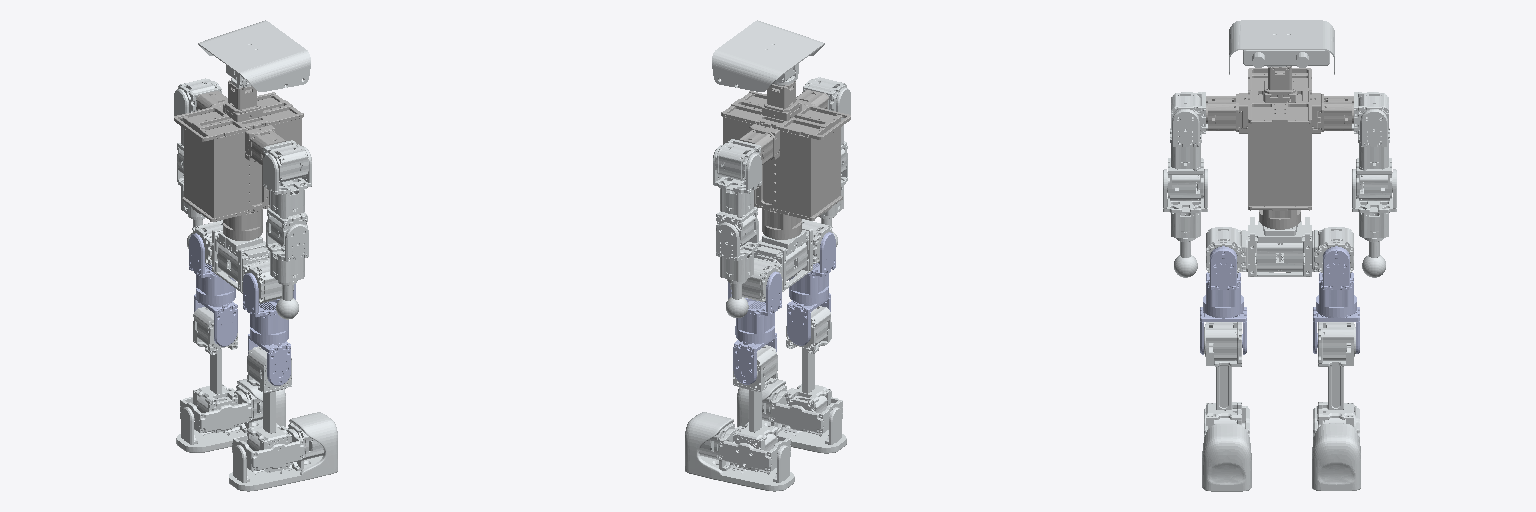
--- Render facts (derived) ---
Views: 3 orthographic renders of the robot side by side, from view 1: azimuth 30°, elevation 25°; view 2: azimuth 150°, elevation 25°; view 3: azimuth 270°, elevation 25°.
Robot: pi_plus_25dof_250820_ori — 26 links, 25 joints (21 revolute, 4 fixed); root link base_link; default pose: all joints at 0.
Links seen in each view (by area): view 1: base_link, head_pitch_link, r_ankle_roll_link, l_ankle_roll_link, r_calf_link, l_calf_link, waist_link, r_hip_roll_link, r_elbow_link, r_shoulder_roll_link, l_hip_roll_link, l_ankle_pitch_link (+8 smaller); view 2: base_link, head_pitch_link, l_ankle_roll_link, r_ankle_roll_link, r_calf_link, l_calf_link, waist_link, l_hip_roll_link, l_elbow_link, l_shoulder_roll_link, r_hip_roll_link, l_ankle_pitch_link (+8 smaller); view 3: base_link, head_pitch_link, waist_link, r_ankle_roll_link, l_ankle_roll_link, r_calf_link, l_calf_link, r_hip_roll_link, l_hip_roll_link, l_shoulder_roll_link, r_shoulder_roll_link, l_elbow_link (+11 smaller).
Boxes of the visible links, x1,y1,x2,y2 form: base_link: (174,80,303,240); head_pitch_link: (198,20,310,91); r_ankle_roll_link: (229,412,337,491); l_ankle_roll_link: (176,379,285,452); r_calf_link: (247,346,291,472); l_calf_link: (193,307,237,432); waist_link: (212,227,269,293); r_hip_roll_link: (243,273,295,346); r_elbow_link: (266,222,308,282); r_shoulder_roll_link: (263,146,311,218); l_hip_roll_link: (189,233,235,305); l_ankle_pitch_link: (180,388,251,432); base_link: (721,80,850,239); head_pitch_link: (712,20,824,91); l_ankle_roll_link: (685,412,794,491); r_ankle_roll_link: (737,379,846,453); r_calf_link: (786,306,831,431); l_calf_link: (733,345,777,471); waist_link: (754,226,812,291); l_hip_roll_link: (728,271,781,344); l_elbow_link: (716,221,758,281); l_shoulder_roll_link: (713,145,761,217); r_hip_roll_link: (789,232,835,304); l_ankle_pitch_link: (719,426,790,471); base_link: (1206,66,1353,229); head_pitch_link: (1229,20,1334,74); waist_link: (1246,217,1313,276); r_ankle_roll_link: (1202,424,1251,491); l_ankle_roll_link: (1312,423,1360,490); r_calf_link: (1204,322,1241,428); l_calf_link: (1318,322,1355,428); r_hip_roll_link: (1203,246,1243,318); l_hip_roll_link: (1316,246,1356,318); l_shoulder_roll_link: (1358,92,1389,168); r_shoulder_roll_link: (1170,92,1201,168); l_elbow_link: (1352,169,1396,237).
Bounding box of the posed robot: 0.2078 × 0.3372 × 0.6915 m (x, y, z).
26 mesh visuals loaded from 26 distinct referenced files (26 binary STL).

URDF robot description (pi_plus_25dof_250820_ori):
<?xml version="1.0" encoding="utf-8"?>
<!-- This URDF was automatically created by SolidWorks to URDF Exporter! Originally created by Stephen Brawner ([email redacted]) 
     Commit Version: 1.6.0-4-g7f85cfe  Build Version: 1.6.7995.38578
     For more information, please see http://wiki.ros.org/sw_urdf_exporter -->
<robot
  name="pi_plus_25dof_250820_ori">
      <mujoco>                                                                                                                                          
        <compiler meshdir="../meshes/" balanceinertia="true" discardvisual="false" />                                                                 
      </mujoco>
  <link
    name="base_link">
    <inertial>
      <origin
        xyz="0.0007758 0.000106 0.11588"
        rpy="0 0 0" />
      <mass
        value="2.2576" />
      <inertia
        ixx="0.014803"
        ixy="1.5E-05"
        ixz="0.0001222"
        iyy="0.0123813"
        iyz="1.19E-05"
        izz="0.0067596" />
    </inertial>
    <visual>
      <origin
        xyz="0 0 0"
        rpy="0 0 0" />
      <geometry>
        <mesh
          filename="../meshes/base_link.STL" />
      </geometry>
      <material
        name="">
        <color
          rgba="0.75294 0.75294 0.75294 1" />
      </material>
    </visual>
    <collision>
      <origin
        xyz="0 0 0.13"
        rpy="0 0 0" />
      <geometry>
        <box size="0.165 0.10 0.15" />
        <!-- <mesh
          filename="../meshes/base_link.STL" /> -->
      </geometry>
    </collision>
  </link>
  <link
    name="waist_link">
    <inertial>
      <origin
        xyz="-0.0002057 0 -0.0388001"
        rpy="0 0 0" />
      <mass
        value="0.8863498" />
      <inertia
        ixx="0.0010563"
        ixy="-3.9E-06"
        ixz="6.1E-06"
        iyy="0.0004077"
        iyz="0"
        izz="0.0009238" />
    </inertial>
    <visual>
      <origin
        xyz="0 0 0"
        rpy="0 0 0" />
      <geometry>
        <mesh
          filename="../meshes/waist_link.STL" />
      </geometry>
      <material
        name="">
        <color
          rgba="0.89804 0.91765 0.92941 1" />
      </material>
    </visual>
    <collision>
      <origin
        xyz="0 0 0"
        rpy="0 0 0" />
      <geometry>
        <mesh
          filename="../meshes/waist_link.STL" />
      </geometry>
    </collision>
  </link>
  <joint
    name="waist_joint"
    type="revolute">
    <origin
      xyz="0 0 -0.0208"
      rpy="0 0 0" />
    <parent
      link="base_link" />
    <child
      link="waist_link" />
    <axis
      xyz="0 0 1" />
    <limit
      lower="-1.57"
      upper="1.57"
      effort="14.4"
      velocity="5.45" />
  </joint>
  <link
    name="l_hip_pitch_link">
    <inertial>
      <origin
        xyz="0.0012172 0.0292722 0.0002663"
        rpy="0 0 0" />
      <mass
        value="0.3993883" />
      <inertia
        ixx="0.0001042"
        ixy="-1.6E-06"
        ixz="1E-07"
        iyy="9.81E-05"
        iyz="-9E-07"
        izz="0.0001247" />
    </inertial>
    <visual>
      <origin
        xyz="0 0 0"
        rpy="0 0 0" />
      <geometry>
        <mesh
          filename="../meshes/l_hip_pitch_link.STL" />
      </geometry>
      <material
        name="">
        <color
          rgba="0.89804 0.91765 0.92941 1" />
      </material>
    </visual>
    <collision>
      <origin
        xyz="0 0 0"
        rpy="0 0 0" />
      <geometry>
        <mesh
          filename="../meshes/l_hip_pitch_link.STL" />
      </geometry>
    </collision>
  </link>
  <joint
    name="l_hip_pitch_joint"
    type="revolute">
    <origin
      xyz="0 0.0489 -0.0435"
      rpy="0 0 0" />
    <parent
      link="waist_link" />
    <child
      link="l_hip_pitch_link" />
    <axis
      xyz="0 1 0" />
    <limit
      lower="-3.13"
      upper="2.95"
      effort="14.4"
      velocity="5.45" />
  </joint>
  <link
    name="l_hip_roll_link">
    <inertial>
      <origin
        xyz="0.0007793 0.0001363 -0.06136"
        rpy="0 0 0" />
      <mass
        value="0.4863" />
      <inertia
        ixx="0.0004765"
        ixy="-4E-07"
        ixz="-2.1E-05"
        iyy="0.0005704"
        iyz="8E-07"
        izz="0.0002242" />
    </inertial>
    <visual>
      <origin
        xyz="0 0 0"
        rpy="0 0 0" />
      <geometry>
        <mesh
          filename="../meshes/l_hip_roll_link.STL" />
      </geometry>
      <material
        name="">
        <color
          rgba="0.79216 0.81961 0.93333 1" />
      </material>
    </visual>
    <collision>
      <origin
        xyz="0 0 0"
        rpy="0 0 0" />
      <geometry>
        <mesh
          filename="../meshes/l_hip_roll_link.STL" />
      </geometry>
    </collision>
  </link>
  <joint
    name="l_hip_roll_joint"
    type="revolute">
    <origin
      xyz="0 0.0326 0"
      rpy="0 0 0" />
    <parent
      link="l_hip_pitch_link" />
    <child
      link="l_hip_roll_link" />
    <axis
      xyz="1 0 0" />
    <limit
      lower="-0.31"
      upper="3.14"
      effort="14.4"
      velocity="5.45" />
  </joint>
  <link
    name="l_thigh_link">
    <inertial>
      <origin
        xyz="0 -0.0014288 -0.017897"
        rpy="0 0 0" />
      <mass
        value="0.10996" />
      <inertia
        ixx="0.0001209"
        ixy="0"
        ixz="0"
        iyy="5.58E-05"
        iyz="-2.7E-06"
        izz="9.21E-05" />
    </inertial>
    <visual>
      <origin
        xyz="0 0 0"
        rpy="0 0 0" />
      <geometry>
        <mesh
          filename="../meshes/l_thigh_link.STL" />
      </geometry>
      <material
        name="">
        <color
          rgba="0.79216 0.81961 0.93333 1" />
      </material>
    </visual>
    <collision>
      <origin
        xyz="0 0 0"
        rpy="0 0 0" />
      <geometry>
        <mesh
          filename="../meshes/l_thigh_link.STL" />
      </geometry>
    </collision>
  </link>
  <joint
    name="l_thigh_joint"
    type="revolute">
    <origin
      xyz="-0.00035 0 -0.10249"
      rpy="0 0 0" />
    <parent
      link="l_hip_roll_link" />
    <child
      link="l_thigh_link" />
    <axis
      xyz="0 0 1" />
    <limit
      lower="-2.88"
      upper="2.88"
      effort="14.4"
      velocity="5.45" />
  </joint>
  <link
    name="l_calf_link">
    <inertial>
      <origin
        xyz="-1.36E-05 0.0027531 -0.07"
        rpy="0 0 0" />
      <mass
        value="0.8031826" />
      <inertia
        ixx="0.003732"
        ixy="0"
        ixz="-1.49E-05"
        iyy="0.0037196"
        iyz="0"
        izz="0.0001841" />
    </inertial>
    <visual>
      <origin
        xyz="0 0 0"
        rpy="0 0 0" />
      <geometry>
        <mesh
          filename="../meshes/l_calf_link.STL" />
      </geometry>
      <material
        name="">
        <color
          rgba="0.89804 0.91765 0.92941 1" />
      </material>
    </visual>
    <collision>
      <origin
        xyz="0 0 0"
        rpy="0 0 0" />
      <geometry>
        <mesh
          filename="../meshes/l_calf_link.STL" />
      </geometry>
    </collision>
  </link>
  <joint
    name="l_calf_joint"
    type="revolute">
    <origin
      xyz="0 0 -0.039912"
      rpy="0 0 0" />
    <parent
      link="l_thigh_link" />
    <child
      link="l_calf_link" />
    <axis
      xyz="0 1 0" />
    <limit
      lower="-2.49"
      upper="2.49"
      effort="14.4"
      velocity="5.45" />
  </joint>
  <link
    name="l_ankle_pitch_link">
    <inertial>
      <origin
        xyz="0.0069349 -0.0009173 1.5304E-05"
        rpy="0 0 0" />
      <mass
        value="0.15648" />
      <inertia
        ixx="0.0001151"
        ixy="-1E-06"
        ixz="-1E-07"
        iyy="0.0001831"
        iyz="0"
        izz="0.0002664" />
    </inertial>
    <visual>
      <origin
        xyz="0 0 0"
        rpy="0 0 0" />
      <geometry>
        <mesh
          filename="../meshes/l_ankle_pitch_link.STL" />
      </geometry>
      <material
        name="">
        <color
          rgba="0.89804 0.91765 0.92941 1" />
      </material>
    </visual>
    <collision>
      <origin
        xyz="0 0 0"
        rpy="0 0 0" />
      <geometry>
        <mesh
          filename="../meshes/l_ankle_pitch_link.STL" />
      </geometry>
    </collision>
  </link>
  <joint
    name="l_ankle_pitch_joint"
    type="revolute">
    <origin
      xyz="0 0 -0.14"
      rpy="0 0 0" />
    <parent
      link="l_calf_link" />
    <child
      link="l_ankle_pitch_link" />
    <axis
      xyz="0 1 0" />
    <limit
      lower="-0.97"
      upper="0.92"
      effort="14.4"
      velocity="5.45" />
  </joint>
  <link
    name="l_ankle_roll_link">
    <inertial>
      <origin
        xyz="0.0040054 0.0001778 -0.012947"
        rpy="0 0 0" />
      <mass
        value="0.6150152" />
      <inertia
        ixx="0.0004411"
        ixy="-2.1E-06"
        ixz="-0.0002439"
        iyy="0.0013922"
        iyz="-8E-07"
        izz="0.001216" />
    </inertial>
    <visual>
      <origin
        xyz="0 0 0"
        rpy="0 0 0" />
      <geometry>
        <mesh
          filename="../meshes/l_ankle_roll_link.STL" />
      </geometry>
      <material
        name="">
        <color
          rgba="0.89804 0.91765 0.92941 1" />
      </material>
    </visual>
    <collision>
      <origin xyz="0.055 0 -0.043" rpy="0 0 0"/>
      <geometry>
        <sphere radius="0.005"/>
      </geometry>
    </collision>
    <collision>
      <origin xyz="0.052 0.03 -0.043" rpy="0 0 0"/>
      <geometry>
        <sphere radius="0.005"/>
      </geometry>
    </collision>
    <collision>
      <origin xyz="0.052 -0.03 -0.043" rpy="0 0 0"/>
      <geometry>
        <sphere radius="0.005"/>
      </geometry>
    </collision>
    <collision>
      <origin xyz="-0.02 -0.032 -0.043" rpy="0 0 0"/>
      <geometry>
        <sphere radius="0.005"/>
      </geometry>
    </collision>
    <collision>
      <origin xyz="-0.02 0.032 -0.043" rpy="0 0 0"/>
      <geometry>
        <sphere radius="0.005"/>
      </geometry>
    </collision>
    <collision>
      <origin xyz="-0.09 0.027 -0.043" rpy="0 0 0"/>
      <geometry>
        <sphere radius="0.005"/>
      </geometry>
    </collision>
    <collision>
      <origin xyz="-0.09 -0.027 -0.043" rpy="0 0 0"/>
      <geometry>
        <sphere radius="0.005"/>
      </geometry>
    </collision>
    <collision>
      <origin xyz="-0.107 -0.015 -0.043" rpy="0 0 0"/>
      <geometry>
        <sphere radius="0.005"/>
      </geometry>
    </collision>
    <collision>
      <origin xyz="-0.107 0.015 -0.043" rpy="0 0 0"/>
      <geometry>
        <sphere radius="0.005"/>
      </geometry>
    </collision>
    <collision>
      <origin
        xyz="0.035 0 0"
        rpy="0 0 0" />
      <geometry>
        <box size="0.04 0.05 0.05" />
        <!-- <mesh
          filename="../meshes/l_ankle_roll_link.STL" /> -->
      </geometry>
    </collision>
  </link>
  <joint
    name="l_ankle_roll_joint"
    type="revolute">
    <origin
      xyz="0.051 0 0"
      rpy="0 0 0" />
    <parent
      link="l_ankle_pitch_link" />
    <child
      link="l_ankle_roll_link" />
    <axis
      xyz="1 0 0" />
    <limit
      lower="-0.78"
      upper="0.78"
      effort="14.4"
      velocity="5.45" />
  </joint>
  <link
    name="r_hip_pitch_link">
    <inertial>
      <origin
        xyz="0.0013058 -0.0293131 0.0002663"
        rpy="0 0 0" />
      <mass
        value="0.3993883" />
      <inertia
        ixx="0.0001055"
        ixy="1.4E-06"
        ixz="1E-07"
        iyy="9.81E-05"
        iyz="-3E-07"
        izz="0.0001259" />
    </inertial>
    <visual>
      <origin
        xyz="0 0 0"
        rpy="0 0 0" />
      <geometry>
        <mesh
          filename="../meshes/r_hip_pitch_link.STL" />
      </geometry>
      <material
        name="">
        <color
          rgba="0.89804 0.91765 0.92941 1" />
      </material>
    </visual>
    <collision>
      <origin
        xyz="0 0 0"
        rpy="0 0 0" />
      <geometry>
        <mesh
          filename="../meshes/r_hip_pitch_link.STL" />
      </geometry>
    </collision>
  </link>
  <joint
    name="r_hip_pitch_joint"
    type="revolute">
    <origin
      xyz="0 -0.0494 -0.0435"
      rpy="0 0 0" />
    <parent
      link="waist_link" />
    <child
      link="r_hip_pitch_link" />
    <axis
      xyz="0 1 0" />
    <limit
      lower="-3.13"
      upper="2.95"
      effort="14.4"
      velocity="5.45" />
  </joint>
  <link
    name="r_hip_roll_link">
    <inertial>
      <origin
        xyz="0.0008711 5.42E-05 -0.0613599"
        rpy="0 0 0" />
      <mass
        value="0.4863" />
      <inertia
        ixx="0.0004765"
        ixy="-5E-07"
        ixz="-2.08E-05"
        iyy="0.0005707"
        iyz="-5E-07"
        izz="0.0002245" />
    </inertial>
    <visual>
      <origin
        xyz="0 0 0"
        rpy="0 0 0" />
      <geometry>
        <mesh
          filename="../meshes/r_hip_roll_link.STL" />
      </geometry>
      <material
        name="">
        <color
          rgba="0.79216 0.81961 0.93333 1" />
      </material>
    </visual>
    <collision>
      <origin
        xyz="0 0 0"
        rpy="0 0 0" />
      <geometry>
        <mesh
          filename="../meshes/r_hip_roll_link.STL" />
      </geometry>
    </collision>
  </link>
  <joint
    name="r_hip_roll_joint"
    type="revolute">
    <origin
      xyz="0 -0.0321 0"
      rpy="0 0 0" />
    <parent
      link="r_hip_pitch_link" />
    <child
      link="r_hip_roll_link" />
    <axis
      xyz="1 0 0" />
    <limit
      lower="-3.14"
      upper="0.31"
      effort="14.4"
      velocity="5.45" />
  </joint>
  <link
    name="r_thigh_link">
    <inertial>
      <origin
        xyz="0 0.0014288 -0.017897"
        rpy="0 0 0" />
      <mass
        value="0.10996" />
      <inertia
        ixx="0.0001209"
        ixy="0"
        ixz="0"
        iyy="5.58E-05"
        iyz="2.7E-06"
        izz="9.21E-05" />
    </inertial>
    <visual>
      <origin
        xyz="0 0 0"
        rpy="0 0 0" />
      <geometry>
        <mesh
          filename="../meshes/r_thigh_link.STL" />
      </geometry>
      <material
        name="">
        <color
          rgba="0.79216 0.81961 0.93333 1" />
      </material>
    </visual>
    <collision>
      <origin
        xyz="0 0 0"
        rpy="0 0 0" />
      <geometry>
        <mesh
          filename="../meshes/r_thigh_link.STL" />
      </geometry>
    </collision>
  </link>
  <joint
    name="r_thigh_joint"
    type="revolute">
    <origin
      xyz="-0.00025 0 -0.10279"
      rpy="0 0 0" />
    <parent
      link="r_hip_roll_link" />
    <child
      link="r_thigh_link" />
    <axis
      xyz="0 0 1" />
    <limit
      lower="-2.88"
      upper="2.88"
      effort="14.4"
      velocity="5.45" />
  </joint>
  <link
    name="r_calf_link">
    <inertial>
      <origin
        xyz="-1.36E-05 -0.0027531 -0.07"
        rpy="0 0 0" />
      <mass
        value="0.8031826" />
      <inertia
        ixx="0.003732"
        ixy="0"
        ixz="1.49E-05"
        iyy="0.0037196"
        iyz="0"
        izz="0.0001841" />
    </inertial>
    <visual>
      <origin
        xyz="0 0 0"
        rpy="0 0 0" />
      <geometry>
        <mesh
          filename="../meshes/r_calf_link.STL" />
      </geometry>
      <material
        name="">
        <color
          rgba="0.89804 0.91765 0.92941 1" />
      </material>
    </visual>
    <collision>
      <origin
        xyz="0 0 0"
        rpy="0 0 0" />
      <geometry>
        <mesh
          filename="../meshes/r_calf_link.STL" />
      </geometry>
    </collision>
  </link>
  <joint
    name="r_calf_joint"
    type="revolute">
    <origin
      xyz="0 0 -0.039912"
      rpy="0 0 0" />
    <parent
      link="r_thigh_link" />
    <child
      link="r_calf_link" />
    <axis
      xyz="0 1 0" />
    <limit
      lower="-2.49"
      upper="2.49"
      effort="14.4"
      velocity="5.45" />
  </joint>
  <link
    name="r_ankle_pitch_link">
    <inertial>
      <origin
        xyz="0.0069349 0.0059217 -1.5304E-05"
        rpy="0 0 0" />
      <mass
        value="0.15648" />
      <inertia
        ixx="0.0001151"
        ixy="1E-06"
        ixz="1E-07"
        iyy="0.0001831"
        iyz="0"
        izz="0.0002664" />
    </inertial>
    <visual>
      <origin
        xyz="0 0 0"
        rpy="0 0 0" />
      <geometry>
        <mesh
          filename="../meshes/r_ankle_pitch_link.STL" />
      </geometry>
      <material
        name="">
        <color
          rgba="0.89804 0.91765 0.92941 1" />
      </material>
    </visual>
    <collision>
      <origin
        xyz="0 0 0"
        rpy="0 0 0" />
      <geometry>
        <mesh
          filename="../meshes/r_ankle_pitch_link.STL" />
      </geometry>
    </collision>
  </link>
  <joint
    name="r_ankle_pitch_joint"
    type="revolute">
    <origin
      xyz="0 0 -0.14"
      rpy="0 0 0" />
    <parent
      link="r_calf_link" />
    <child
      link="r_ankle_pitch_link" />
    <axis
      xyz="0 1 0" />
    <limit
      lower="-0.97"
      upper="0.92"
      effort="14.4"
      velocity="5.45" />
  </joint>
  <link
    name="r_ankle_roll_link">
    <inertial>
      <origin
        xyz="0.0040054 0.0001778 -0.012947"
        rpy="0 0 0" />
      <mass
        value="0.6150152" />
      <inertia
        ixx="0.0004411"
        ixy="-2.1E-06"
        ixz="-0.0002439"
        iyy="0.0013922"
        iyz="-8E-07"
        izz="0.001216" />
    </inertial>
    <visual>
      <origin
        xyz="0 0 0"
        rpy="0 0 0" />
      <geometry>
        <mesh
          filename="../meshes/r_ankle_roll_link.STL" />
      </geometry>
      <material
        name="">
        <color
          rgba="0.89804 0.91765 0.92941 1" />
      </material>
    </visual>
    <collision>
      <origin xyz="0.055 0 -0.043" rpy="0 0 0"/>
      <geometry>
        <sphere radius="0.005"/>
      </geometry>
    </collision>
    <collision>
      <origin xyz="0.052 0.03 -0.043" rpy="0 0 0"/>
      <geometry>
        <sphere radius="0.005"/>
      </geometry>
    </collision>
    <collision>
      <origin xyz="0.052 -0.03 -0.043" rpy="0 0 0"/>
      <geometry>
        <sphere radius="0.005"/>
      </geometry>
    </collision>
    <collision>
      <origin xyz="-0.02 -0.032 -0.043" rpy="0 0 0"/>
      <geometry>
        <sphere radius="0.005"/>
      </geometry>
    </collision>
    <collision>
      <origin xyz="-0.02 0.032 -0.043" rpy="0 0 0"/>
      <geometry>
        <sphere radius="0.005"/>
      </geometry>
    </collision>
    <collision>
      <origin xyz="-0.09 0.027 -0.043" rpy="0 0 0"/>
      <geometry>
        <sphere radius="0.005"/>
      </geometry>
    </collision>
    <collision>
      <origin xyz="-0.09 -0.027 -0.043" rpy="0 0 0"/>
      <geometry>
        <sphere radius="0.005"/>
      </geometry>
    </collision>
    <collision>
      <origin xyz="-0.107 -0.015 -0.043" rpy="0 0 0"/>
      <geometry>
        <sphere radius="0.005"/>
      </geometry>
    </collision>
    <collision>
      <origin xyz="-0.107 0.015 -0.043" rpy="0 0 0"/>
      <geometry>
        <sphere radius="0.005"/>
      </geometry>
    </collision>
    <collision>
      <origin
        xyz="0.035 0 0"
        rpy="0 0 0" />
      <geometry>
        <box size="0.04 0.05 0.05" />
        <!-- <mesh
          filename="../meshes/l_ankle_roll_link.STL" /> -->
      </geometry>
    </collision>
  </link>
  <joint
    name="r_ankle_roll_joint"
    type="revolute">
    <origin
      xyz="0.051 0.0050044 0"
      rpy="0 0 0" />
    <parent
      link="r_ankle_pitch_link" />
    <child
      link="r_ankle_roll_link" />
    <axis
      xyz="1 0 0" />
    <limit
      lower="-0.78"
      upper="0.78"
      effort="14.4"
      velocity="5.45" />
  </joint>
  <link
    name="l_shoulder_pitch_link">
    <inertial>
      <origin
        xyz="0.0021508 0.0256369 -0.0002145"
        rpy="0 0 0" />
      <mass
        value="0.2585813" />
      <inertia
        ixx="8.48E-05"
        ixy="-2.2E-06"
        ixz="4E-07"
        iyy="8.07E-05"
        iyz="-1E-07"
        izz="9.64E-05" />
    </inertial>
    <visual>
      <origin
        xyz="0 0 0"
        rpy="0 0 0" />
      <geometry>
        <mesh
          filename="../meshes/l_shoulder_pitch_link.STL" />
      </geometry>
      <material
        name="">
        <color
          rgba="0.89804 0.91765 0.92941 1" />
      </material>
    </visual>
    <collision>
      <origin
        xyz="0 0 0"
        rpy="0 0 0" />
      <geometry>
        <mesh
          filename="../meshes/l_shoulder_pitch_link.STL" />
      </geometry>
    </collision>
  </link>
  <joint
    name="l_shoulder_pitch_joint"
    type="revolute">
    <origin
      xyz="0 0.1069 0.1549"
      rpy="0 0 0" />
    <parent
      link="base_link" />
    <child
      link="l_shoulder_pitch_link" />
    <axis
      xyz="0 1 0" />
    <limit
      lower="-2.61"
      upper="2.61"
      effort="9"
      velocity="15.91" />
  </joint>
  <link
    name="l_shoulder_roll_link">
    <inertial>
      <origin
        xyz="0.0002739 0.0001877 -0.0460977"
        rpy="0 0 0" />
      <mass
        value="0.2955983" />
      <inertia
        ixx="0.0002252"
        ixy="1E-07"
        ixz="-2E-07"
        iyy="0.0002831"
        iyz="1.2E-06"
        izz="0.0001295" />
    </inertial>
    <visual>
      <origin
        xyz="0 0 0"
        rpy="0 0 0" />
      <geometry>
        <mesh
          filename="../meshes/l_shoulder_roll_link.STL" />
      </geometry>
      <material
        name="">
        <color
          rgba="0.89804 0.91765 0.92941 1" />
      </material>
    </visual>
    <collision>
      <origin
        xyz="0 0 0"
        rpy="0 0 0" />
      <geometry>
        <mesh
          filename="../meshes/l_shoulder_roll_link.STL" />
      </geometry>
    </collision>
  </link>
  <joint
    name="l_shoulder_roll_joint"
    type="revolute">
    <origin
      xyz="0 0.029 0"
      rpy="0 0 0" />
    <parent
      link="l_shoulder_pitch_link" />
    <child
      link="l_shoulder_roll_link" />
    <axis
      xyz="1 0 0" />
    <limit
      lower="-0.36"
      upper="3.4"
      effort="9"
      velocity="15.91" />
  </joint>
  <link
    name="l_upper_arm_link">
    <inertial>
      <origin
        xyz="0.0002145 0.0020712 -0.0256369"
        rpy="0 0 0" />
      <mass
        value="0.2585813" />
      <inertia
        ixx="9.65E-05"
        ixy="-1E-07"
        ixz="-1E-07"
        iyy="8.48E-05"
        iyz="2.7E-06"
        izz="8.08E-05" />
    </inertial>
    <visual>
      <origin
        xyz="0 0 0"
        rpy="0 0 0" />
      <geometry>
        <mesh
          filename="../meshes/l_upper_arm_link.STL" />
      </geometry>
      <material
        name="">
        <color
          rgba="0.89804 0.91765 0.92941 1" />
      </material>
    </visual>
    <collision>
      <origin
        xyz="0 0 0"
        rpy="0 0 0" />
      <geometry>
        <mesh
          filename="../meshes/l_upper_arm_link.STL" />
      </geometry>
    </collision>
  </link>
  <joint
    name="l_upper_arm_joint"
    type="revolute">
    <origin
      xyz="0 0 -0.0814"
      rpy="0 0 0" />
    <parent
      link="l_shoulder_roll_link" />
    <child
      link="l_upper_arm_link" />
    <axis
      xyz="0 0 1" />
    <limit
      lower="-2.61"
      upper="2.61"
      effort="9"
      velocity="15.91" />
  </joint>
  <link
    name="l_elbow_link">
    <inertial>
      <origin
        xyz="-0.0001532 0.0003095 -0.0460211"
        rpy="0 0 0" />
      <mass
        value="0.29492" />
      <inertia
        ixx="0.0002822"
        ixy="0"
        ixz="-9E-07"
        iyy="0.0002243"
        iyz="2E-07"
        izz="0.0001292" />
    </inertial>
    <visual>
      <origin
        xyz="0 0 0"
        rpy="0 0 0" />
      <geometry>
        <mesh
          filename="../meshes/l_elbow_link.STL" />
      </geometry>
      <material
        name="">
        <color
          rgba="0.89804 0.91765 0.92941 1" />
      </material>
    </visual>
    <collision>
      <origin
        xyz="0 0 0"
        rpy="0 0 0" />
      <geometry>
        <mesh
          filename="../meshes/l_elbow_link.STL" />
      </geometry>
    </collision>
  </link>
  <joint
    name="l_elbow_joint"
    type="revolute">
    <origin
      xyz="0 0 -0.029"
      rpy="0 0 0" />
    <parent
      link="l_upper_arm_link" />
    <child
      link="l_elbow_link" />
    <axis
      xyz="0 1 0" />
    <limit
      lower="-1.91"
      upper="1.91"
      effort="9"
      velocity="15.91" />
  </joint>
  <link
    name="l_wrist_link">
    <inertial>
      <origin
        xyz="0 0 -0.0237055"
        rpy="0 0 0" />
      <mass
        value="0.0851827" />
      <inertia
        ixx="3.68E-05"
        ixy="0"
        ixz="0"
        iyy="3.68E-05"
        iyz="0"
        izz="8E-06" />
    </inertial>
    <visual>
      <origin
        xyz="0 0 0"
        rpy="0 0 0" />
      <geometry>
        <mesh
          filename="../meshes/l_wrist_link.STL" />
      </geometry>
      <material
        name="">
        <color
          rgba="0.89804 0.91765 0.92941 1" />
      </material>
    </visual>
    <collision>
      <origin
        xyz="0 0 0"
        rpy="0 0 0" />
      <geometry>
        <mesh
          filename="../meshes/l_wrist_link.STL" />
      </geometry>
    </collision>
  </link>
  <joint
    name="l_wrist_joint"
    type="fixed">
    <origin
      xyz="0 0 -0.0814"
      rpy="0 0 0" />
    <parent
      link="l_elbow_link" />
    <child
      link="l_wrist_link" />
    <axis
      xyz="0 0 1" />
    <limit
      lower="-3.14"
      upper="3.14"
      effort="9"
      velocity="15.91" />
  </joint>
  <link
    name="r_shoulder_pitch_link">
    <inertial>
      <origin
        xyz="0.0021508 -0.0256369 0.0001349"
        rpy="0 0 0" />
      <mass
        value="0.2585813" />
      <inertia
        ixx="8.48E-05"
        ixy="2.2E-06"
        ixz="-1E-07"
        iyy="3.1708E-05"
        iyz="5E-07"
        izz="9.64E-05" />
    </inertial>
    <visual>
      <origin
        xyz="0 0 0"
        rpy="0 0 0" />
      <geometry>
        <mesh
          filename="../meshes/r_shoulder_pitch_link.STL" />
      </geometry>
      <material
        name="">
        <color
          rgba="0.89804 0.91765 0.92941 1" />
      </material>
    </visual>
    <collision>
      <origin
        xyz="0 0 0"
        rpy="0 0 0" />
      <geometry>
        <mesh
          filename="../meshes/r_shoulder_pitch_link.STL" />
      </geometry>
    </collision>
  </link>
  <joint
    name="r_shoulder_pitch_joint"
    type="revolute">
    <origin
      xyz="0 -0.1069 0.1549"
      rpy="0 0 0" />
    <parent
      link="base_link" />
    <child
      link="r_shoulder_pitch_link" />
    <axis
      xyz="0 1 0" />
    <limit
      lower="-2.61"
      upper="2.61"
      effort="9"
      velocity="15.91" />
  </joint>
  <link
    name="r_shoulder_roll_link">
    <inertial>
      <origin
        xyz="0.0002739 0.0001179 -0.0460977"
        rpy="0 0 0" />
      <mass
        value="0.2955983" />
      <inertia
        ixx="0.0002252"
        ixy="-2E-07"
        ixz="-2E-07"
        iyy="0.0002831"
        iyz="5E-07"
        izz="0.0001295" />
    </inertial>
    <visual>
      <origin
        xyz="0 0 0"
        rpy="0 0 0" />
      <geometry>
        <mesh
          filename="../meshes/r_shoulder_roll_link.STL" />
      </geometry>
      <material
        name="">
        <color
          rgba="0.89804 0.91765 0.92941 1" />
      </material>
    </visual>
    <collision>
      <origin
        xyz="0 0 0"
        rpy="0 0 0" />
      <geometry>
        <mesh
          filename="../meshes/r_shoulder_roll_link.STL" />
      </geometry>
    </collision>
  </link>
  <joint
    name="r_shoulder_roll_joint"
    type="revolute">
    <origin
      xyz="0 -0.029 0"
      rpy="0 0 0" />
    <parent
      link="r_shoulder_pitch_link" />
    <child
      link="r_shoulder_roll_link" />
    <axis
      xyz="1 0 0" />
    <limit
      lower="-3.4"
      upper="0.36"
      effort="9"
      velocity="15.91" />
  </joint>
  <link
    name="r_upper_arm_link">
    <inertial>
      <origin
        xyz="-0.0001349 0.0020712 -0.0256369"
        rpy="0 0 0" />
      <mass
        value="0.2585813" />
      <inertia
        ixx="9.65E-05"
        ixy="-4E-07"
        ixz="-5E-07"
        iyy="8.48E-05"
        iyz="-2.7E-06"
        izz="8.08E-05" />
    </inertial>
    <visual>
      <origin
        xyz="0 0 0"
        rpy="0 0 0" />
      <geometry>
        <mesh
          filename="../meshes/r_upper_arm_link.STL" />
      </geometry>
      <material
        name="">
        <color
          rgba="0.89804 0.91765 0.92941 1" />
      </material>
    </visual>
    <collision>
      <origin
        xyz="0 0 0"
        rpy="0 0 0" />
      <geometry>
        <mesh
          filename="../meshes/r_upper_arm_link.STL" />
      </geometry>
    </collision>
  </link>
  <joint
    name="r_upper_arm_joint"
    type="revolute">
    <origin
      xyz="0 0 -0.0814"
      rpy="0 0 0" />
    <parent
      link="r_shoulder_roll_link" />
    <child
      link="r_upper_arm_link" />
    <axis
      xyz="0 0 1" />
    <limit
      lower="-2.61"
      upper="2.61"
      effort="9"
      velocity="15.91" />
  </joint>
  <link
    name="r_elbow_link">
    <inertial>
      <origin
        xyz="0.0001532 -0.0003095 -0.0460211"
        rpy="0 0 0" />
      <mass
        value="0.29492" />
      <inertia
        ixx="0.0002822"
        ixy="1.9583E-07"
        ixz="9E-07"
        iyy="0.0002243"
        iyz="-2E-07"
        izz="0.0001292" />
    </inertial>
    <visual>
      <origin
        xyz="0 0 0"
        rpy="0 0 0" />
      <geometry>
        <mesh
          filename="../meshes/r_elbow_link.STL" />
      </geometry>
      <material
        name="">
        <color
          rgba="0.89804 0.91765 0.92941 1" />
      </material>
    </visual>
    <collision>
      <origin
        xyz="0 0 0"
        rpy="0 0 0" />
      <geometry>
        <mesh
          filename="../meshes/r_elbow_link.STL" />
      </geometry>
    </collision>
  </link>
  <joint
    name="r_elbow_joint"
    type="revolute">
    <origin
      xyz="0 0 -0.029"
      rpy="0 0 0" />
    <parent
      link="r_upper_arm_link" />
    <child
      link="r_elbow_link" />
    <axis
      xyz="0 1 0" />
    <limit
      lower="-1.91"
      upper="1.91"
      effort="9"
      velocity="15.91" />
  </joint>
  <link
    name="r_wrist_link">
    <inertial>
      <origin
        xyz="0 0 -0.0237055"
        rpy="0 0 0" />
      <mass
        value="0.0851827" />
      <inertia
        ixx="3.68E-05"
        ixy="0"
        ixz="0"
        iyy="3.68E-05"
        iyz="0"
        izz="8E-06" />
    </inertial>
    <visual>
      <origin
        xyz="0 0 0"
        rpy="0 0 0" />
      <geometry>
        <mesh
          filename="../meshes/r_wrist_link.STL" />
      </geometry>
      <material
        name="">
        <color
          rgba="0.89804 0.91765 0.92941 1" />
      </material>
    </visual>
    <collision>
      <origin
        xyz="0 0 0"
        rpy="0 0 0" />
      <geometry>
        <mesh
          filename="../meshes/r_wrist_link.STL" />
      </geometry>
    </collision>
  </link>
  <joint
    name="r_wrist_joint"
    type="fixed">
    <origin
      xyz="0 0 -0.0814"
      rpy="0 0 0" />
    <parent
      link="r_elbow_link" />
    <child
      link="r_wrist_link" />
    <axis
      xyz="0 0 1" />
    <limit
      lower="-3.14"
      upper="3.14"
      effort="9"
      velocity="15.91" />
  </joint>
  <link
    name="head_yaw_link">
    <inertial>
      <origin
        xyz="-5.83E-05 0.0003097 0.0233259"
        rpy="0 0 0" />
      <mass
        value="0.1746233" />
      <inertia
        ixx="1.72E-05"
        ixy="-3E-07"
        ixz="-7.6015E-08"
        iyy="1.63E-05"
        iyz="-1.1E-06"
        izz="1.09E-05" />
    </inertial>
    <visual>
      <origin
        xyz="0 0 0"
        rpy="0 0 0" />
      <geometry>
        <mesh
          filename="../meshes/head_yaw_link.STL" />
      </geometry>
      <material
        name="">
        <color
          rgba="0.89804 0.91765 0.92941 1" />
      </material>
    </visual>
    <collision>
      <origin
        xyz="0 0 0"
        rpy="0 0 0" />
      <geometry>
        <mesh
          filename="../meshes/head_yaw_link.STL" />
      </geometry>
    </collision>
  </link>
  <joint
    name="head_yaw_joint"
    type="fixed">
    <origin
      xyz="0 -0.00025 0.236"
      rpy="0 0 0" />
    <parent
      link="base_link" />
    <child
      link="head_yaw_link" />
    <axis
      xyz="0 0 1" />
    <limit
      lower="-1.57"
      upper="1.57"
      effort="1.8"
      velocity="30.37" />
  </joint>
  <link
    name="head_pitch_link">
    <inertial>
      <origin
        xyz="0.0283538 0.0011654 0.0147941"
        rpy="0 0 0" />
      <mass
        value="0.2607302" />
      <inertia
        ixx="0.0005201"
        ixy="-1.89E-05"
        ixz="2.2E-06"
        iyy="0.0002375"
        iyz="-5.2E-06"
        izz="0.0006853" />
    </inertial>
    <visual>
      <origin
        xyz="0 0 0"
        rpy="0 0 0" />
      <geometry>
        <mesh
          filename="../meshes/head_pitch_link.STL" />
      </geometry>
      <material
        name="">
        <color
          rgba="0.89804 0.91765 0.92941 1" />
      </material>
    </visual>
    <collision>
      <origin
        xyz="0 0 0"
        rpy="0 0 0" />
      <geometry>
        <mesh
          filename="../meshes/head_pitch_link.STL" />
      </geometry>
    </collision>
  </link>
  <joint
    name="head_pitch_joint"
    type="fixed">
    <origin
      xyz="0 0.0005 0.0255"
      rpy="0 0 0" />
    <parent
      link="head_yaw_link" />
    <child
      link="head_pitch_link" />
    <axis
      xyz="0 1 0" />
    <limit
      lower="-0.65"
      upper="0.73"
      effort="1.8"
      velocity="30.37" />
  </joint>
</robot>
